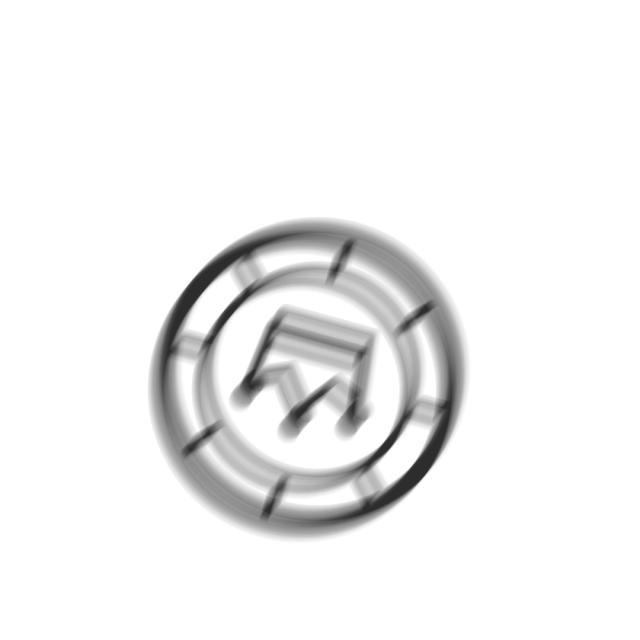coin: (140, 205, 472, 545)
